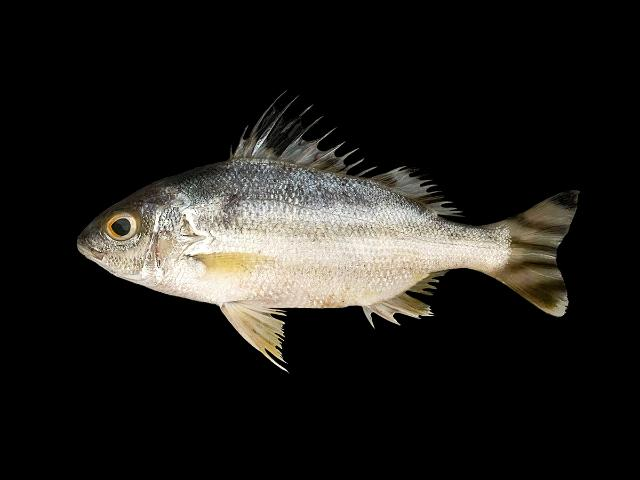Mulut: (63, 215, 119, 279)
Sirip Anal: (356, 264, 462, 336)
Sirip Dada: (188, 246, 294, 284)
Sirip Ekor: (496, 179, 592, 329)
Sirip Perut: (220, 294, 294, 376)
Sirip Punggung: (210, 80, 470, 222)
